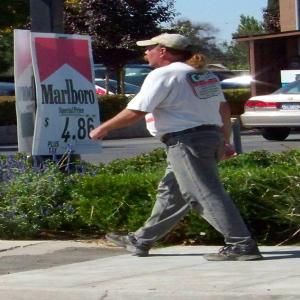Vehicle-registration-plate: (278, 103, 300, 109)
